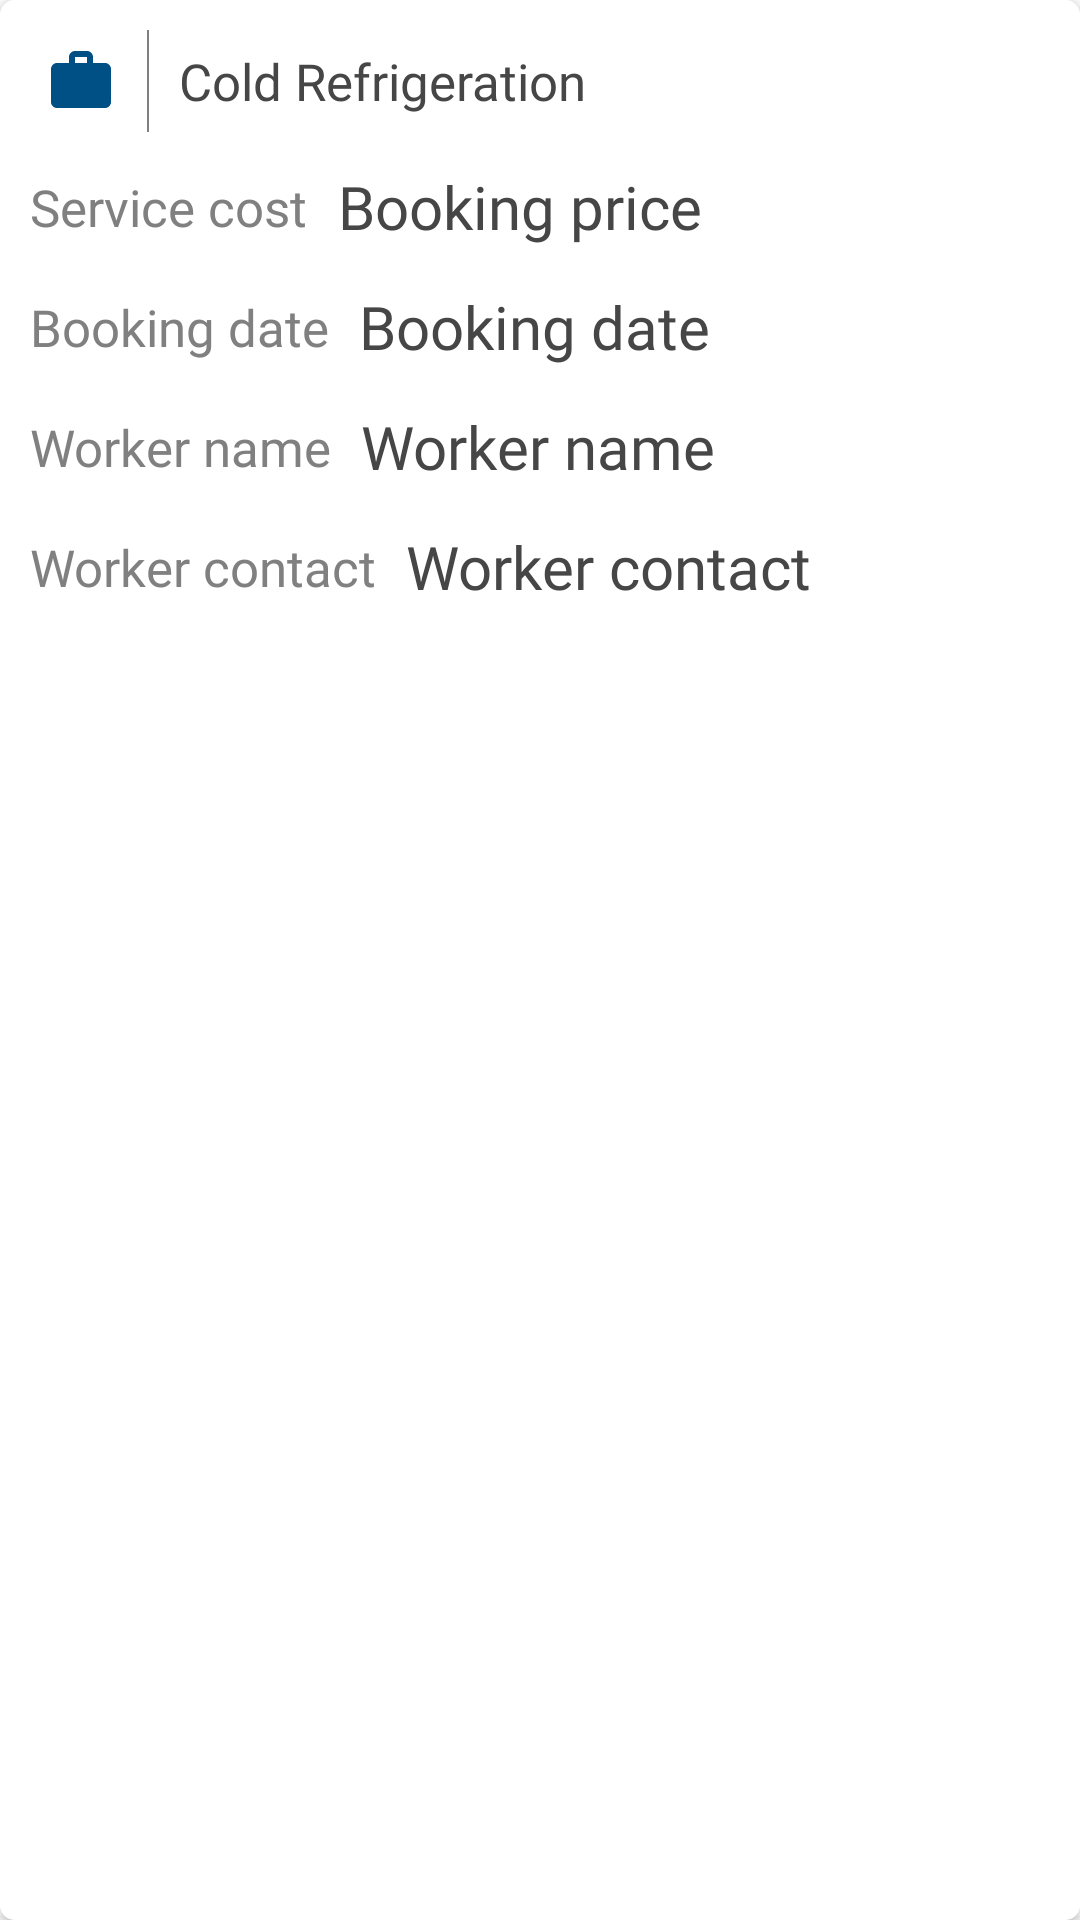

Icon click points for this 1080w x 1920h phone screenshot, format [x,y]:
work: [81,79]
